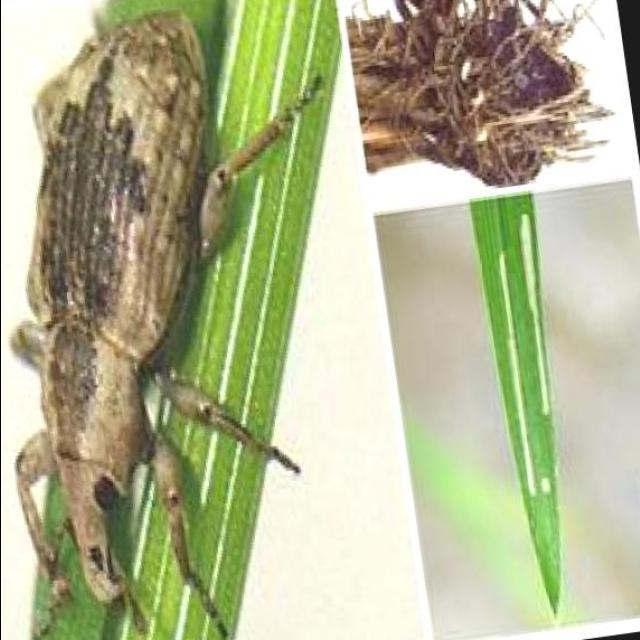ricebug: (10, 13, 318, 636)
